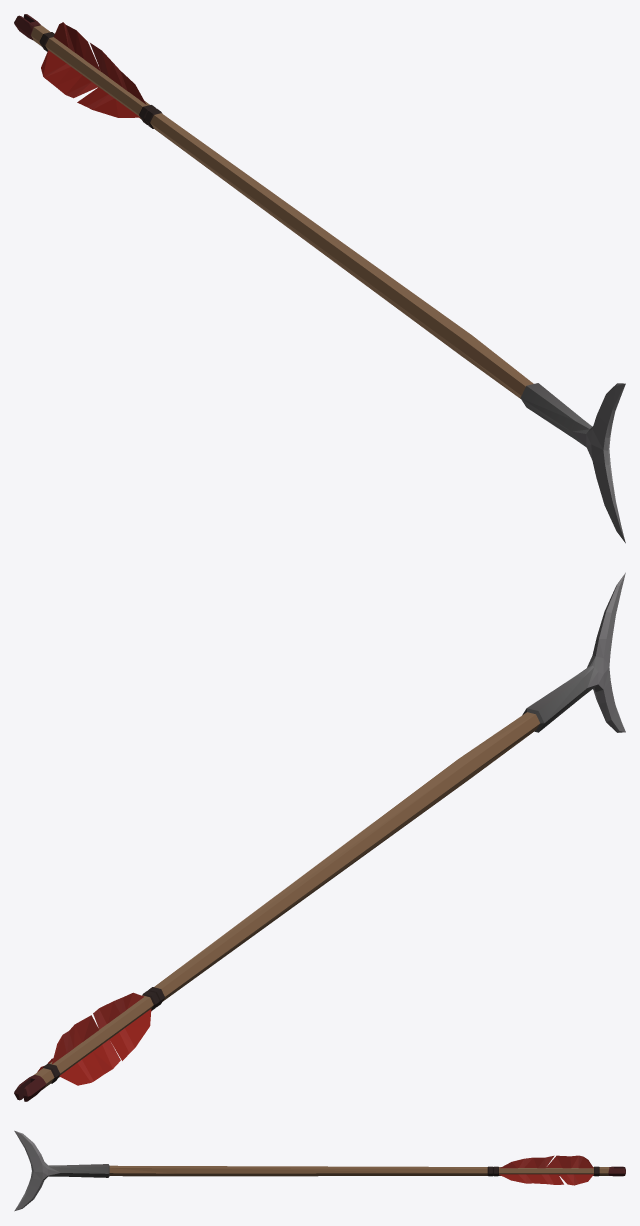
Rendered from crescentSpearHeadArrow.glb.
3 views of the same model, one above another, from view 1: azimuth 30°, elevation 25°; view 2: azimuth 150°, elevation 25°; view 3: azimuth 270°, elevation 25° (orthographic). The views are drawn at different scales.
Visible parts, largest first — view 1: crescentSpearHeadArrow; view 2: crescentSpearHeadArrow; view 3: crescentSpearHeadArrow.
Part boxes in pixels (<box>): crescentSpearHeadArrow: <box>14,14,625,543</box>; crescentSpearHeadArrow: <box>14,572,625,1101</box>; crescentSpearHeadArrow: <box>14,1130,625,1211</box>.
Bounding box in the file's own units: 0.0516 × 0.1509 × 1.03.
